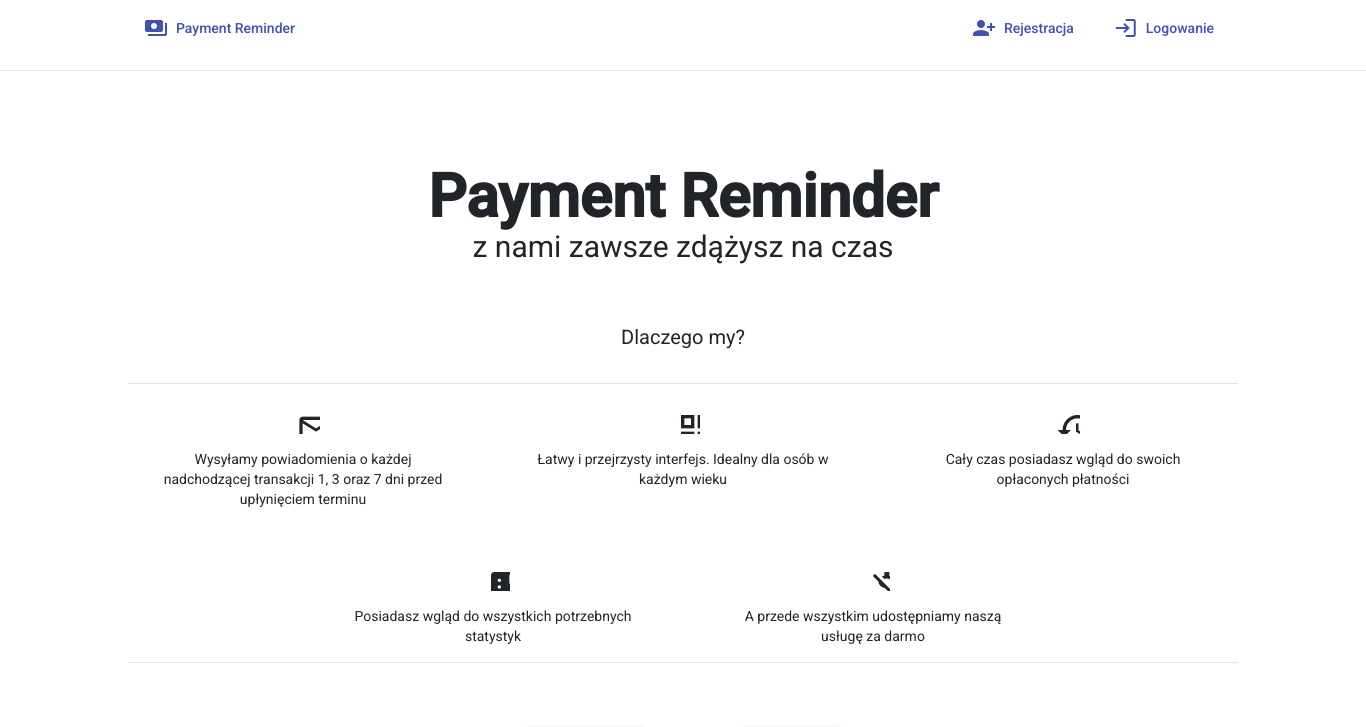
Test case: Clicking buttons › Should click buttons and open windows
Click the button "Rejestracja": (1023, 27) [956,8,1090,46]
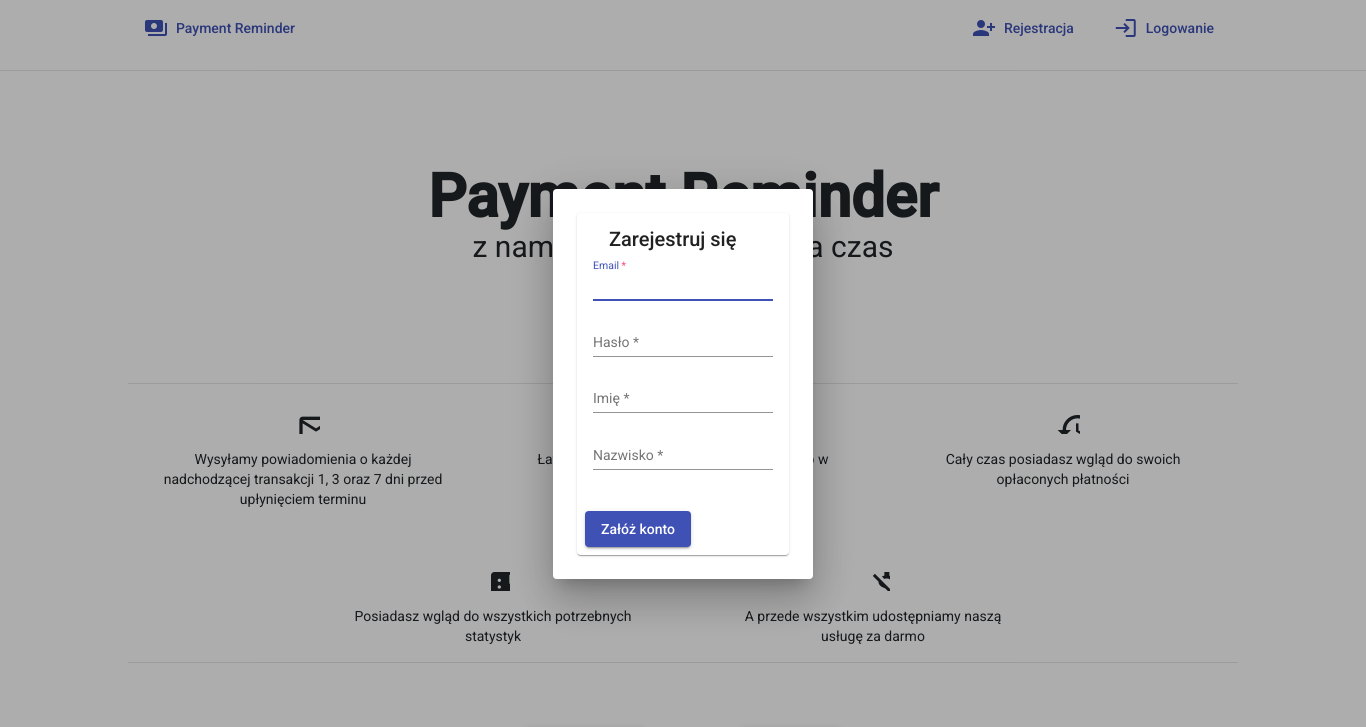
Check: the text "Zarejestruj się" is shown, box [609,229,736,249]
Open ""
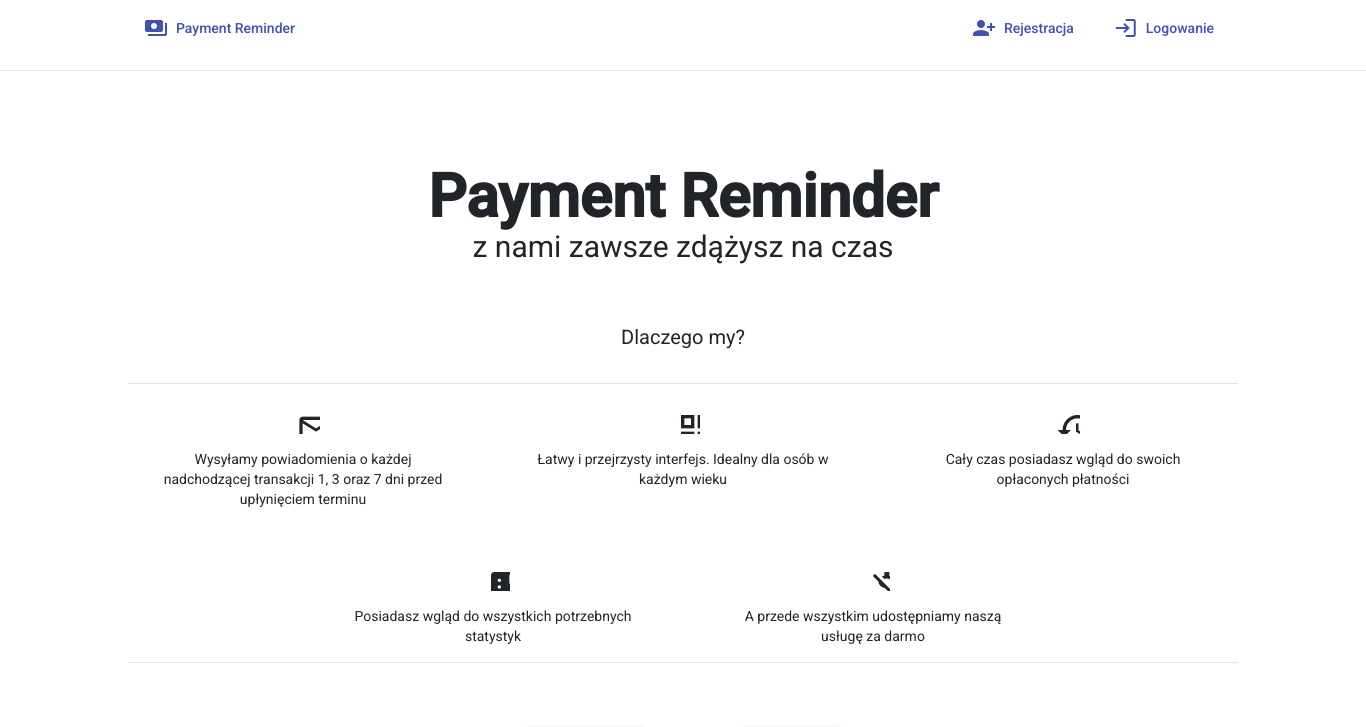
Click the button "Logowanie": (1164, 27) [1114,19,1214,35]
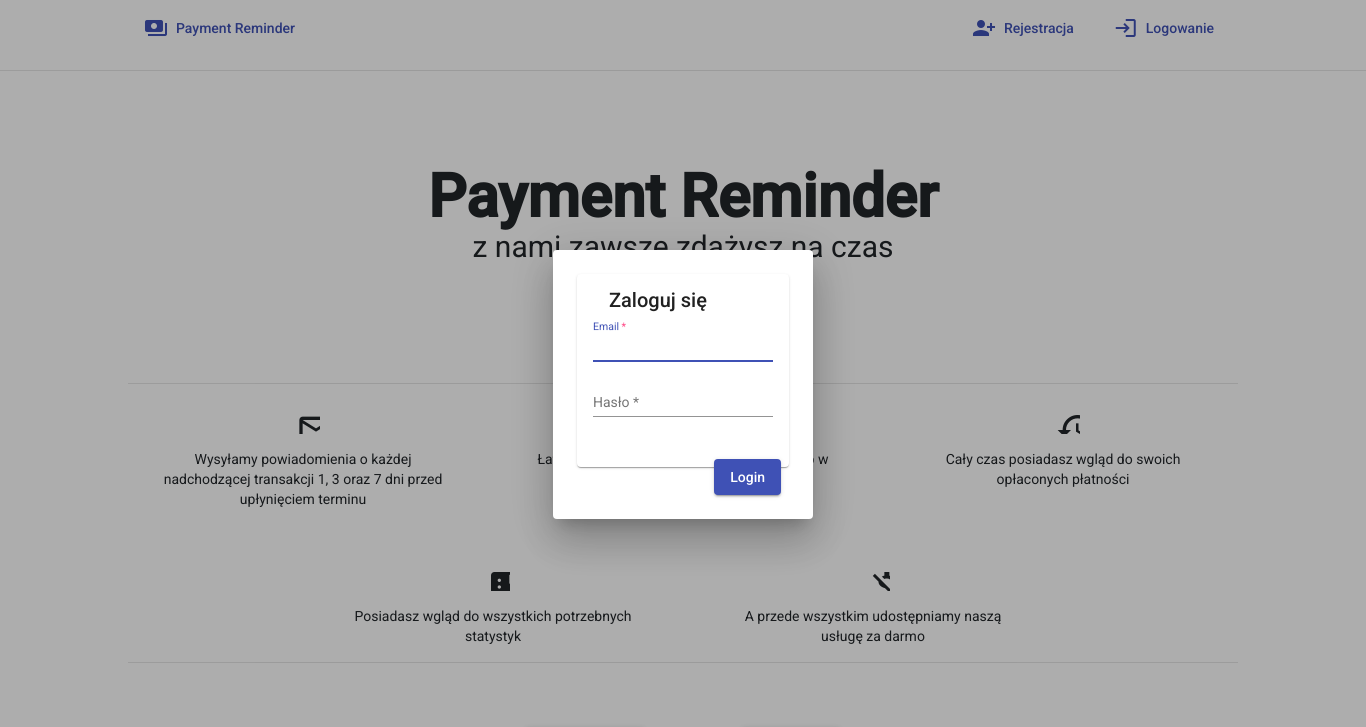
Check: the text "Zaloguj się" is shown, box [609,290,707,310]
